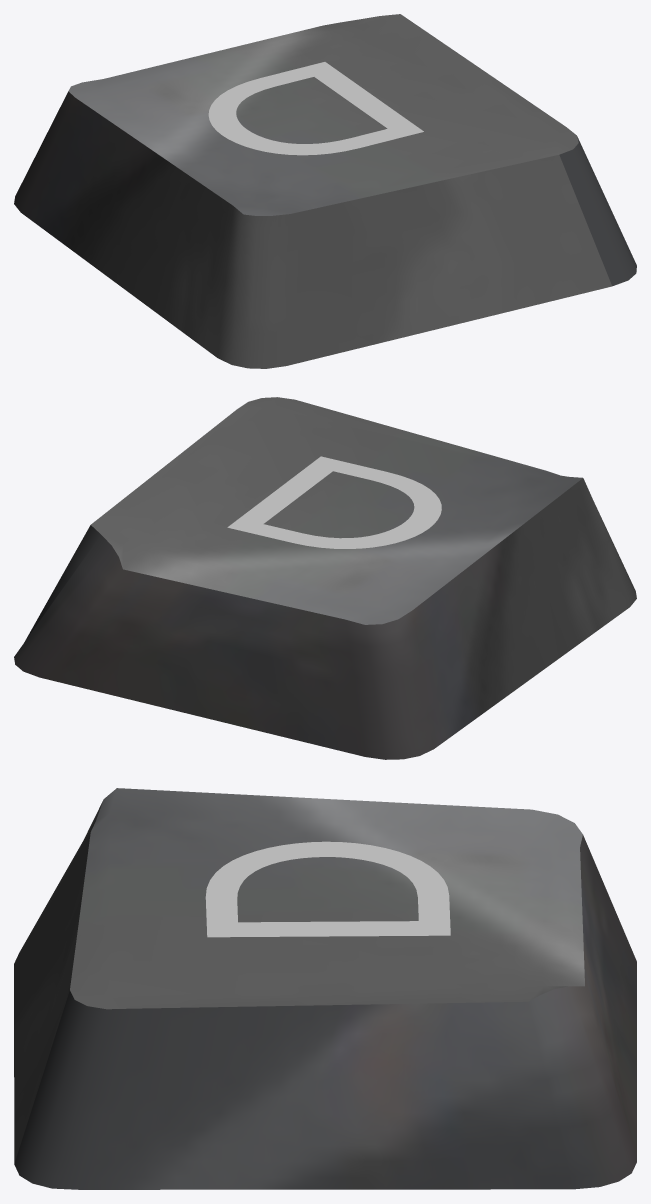
Rendered from D Rock.fbx.
The picture shows the model from 3 angles, top to bottom: view 1: azimuth 30°, elevation 25°; view 2: azimuth 150°, elevation 25°; view 3: azimuth 270°, elevation 25°; orthographic projection. The views are drawn at different scales.
Visible parts, largest first — view 1: keyboard.005, Text; view 2: keyboard.005, Text; view 3: keyboard.005, Text.
Boxes of the visible parts, box(x1,y1,x2,y2) form: keyboard.005: box(14, 14, 636, 368); Text: box(208, 62, 423, 155); keyboard.005: box(14, 397, 636, 759); Text: box(227, 456, 441, 548); keyboard.005: box(14, 788, 636, 1189); Text: box(205, 841, 450, 937).
Bounding box in the file's own units: 1.51 × 0.4657 × 1.56.
